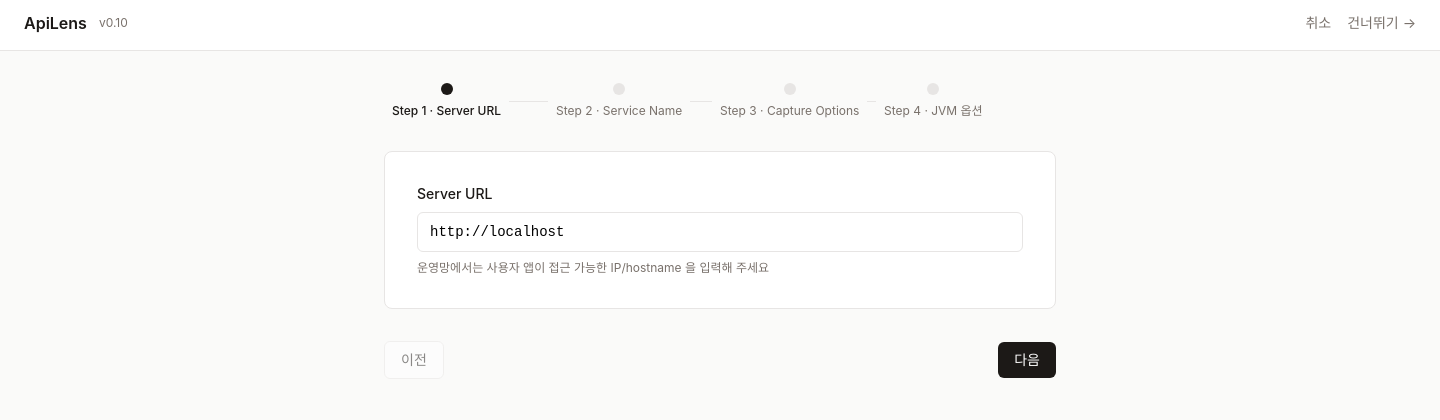
Test case: Setup wizard — [R10] 회수 검증 › showsPortFormatErrorWhenOnlyPortIsWrong — 호스트는 맞고 포트만 틀리면 포트 문구로 고칠 자리를 짚음
Step 1. Replace the text in the field labelled "Server URL" with "http://host:abc" → [720, 232], box [417,212,1023,252]
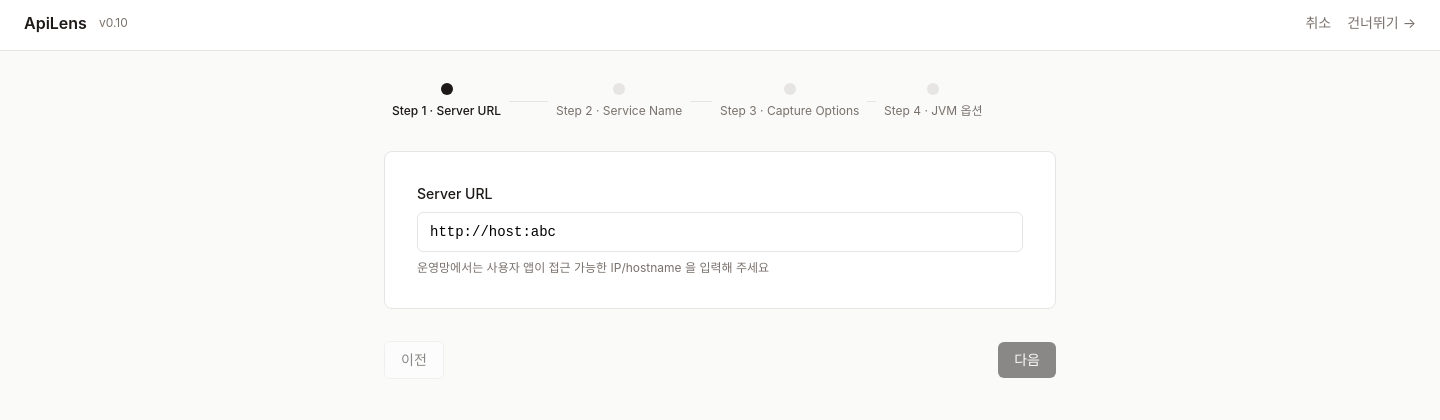
Step 2. Leave the field labelled "Server URL", box [417,212,1023,252]
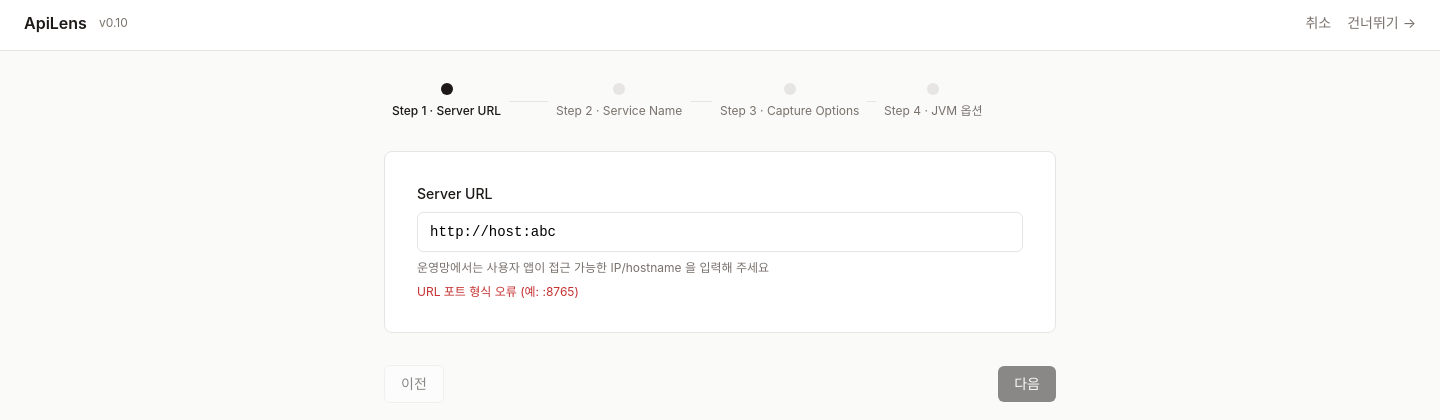
expect the button "다음" is disabled: met, box [998,366,1056,402]
expect the message reads "URL 포트 형식 오류 (예: :8765)": met, box [417,284,579,299]
